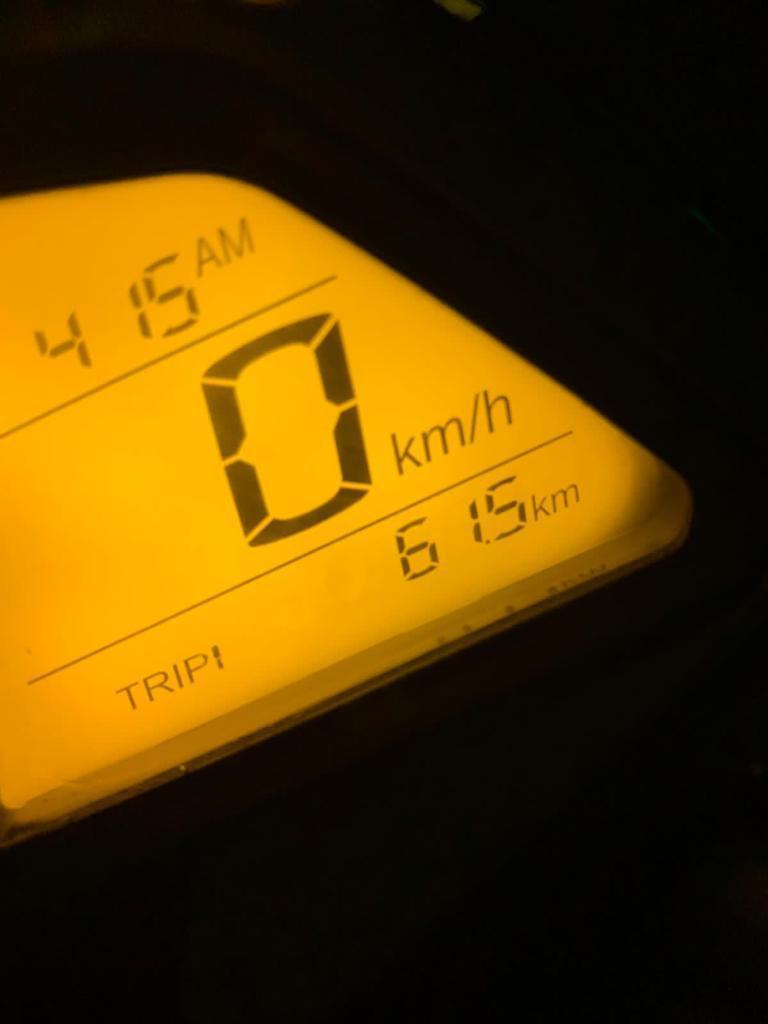,: (483, 537, 492, 548)
0: (197, 310, 374, 548)
1: (124, 281, 151, 347), (465, 496, 483, 545), (210, 641, 226, 671)
4: (32, 310, 91, 380)
5: (144, 252, 198, 338), (484, 473, 526, 540)
6: (394, 516, 439, 581)
X: (422, 416, 465, 465), (217, 216, 255, 263), (387, 428, 421, 476), (481, 386, 512, 433), (197, 236, 221, 278), (142, 670, 173, 701), (550, 482, 580, 514), (184, 652, 207, 683), (115, 681, 138, 710), (468, 391, 480, 444), (529, 491, 549, 522), (172, 663, 183, 690)
odometer: (0, 125, 708, 857)
